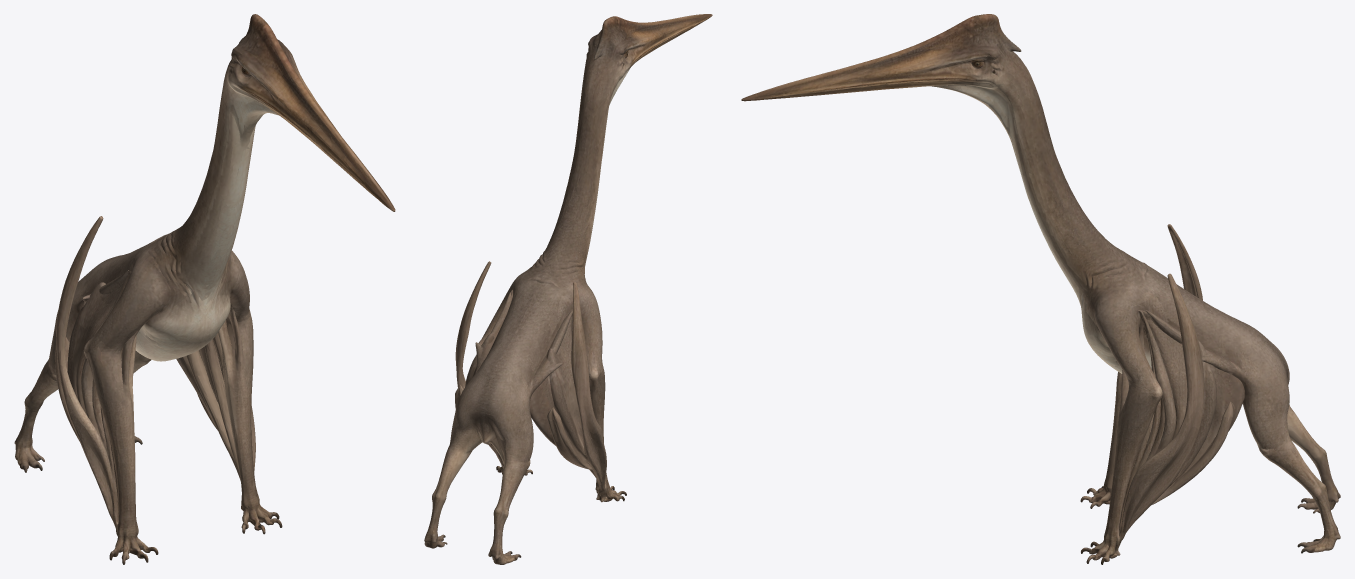
3 views of the same model, side by side, from view 1: azimuth 30°, elevation 25°; view 2: azimuth 150°, elevation 25°; view 3: azimuth 270°, elevation 25° (orthographic). The views are drawn at different scales.
Visible parts, largest first — view 1: Authored orientation; view 2: Authored orientation; view 3: Authored orientation.
Part boxes in pixels (x1,y1,x2,y2): Authored orientation: (14,14,395,564); Authored orientation: (424,14,712,564); Authored orientation: (741,14,1340,564).
Size of the model in its own units: 0.6579 by 2.03 by 2.14.
1 material, 1 textured.
